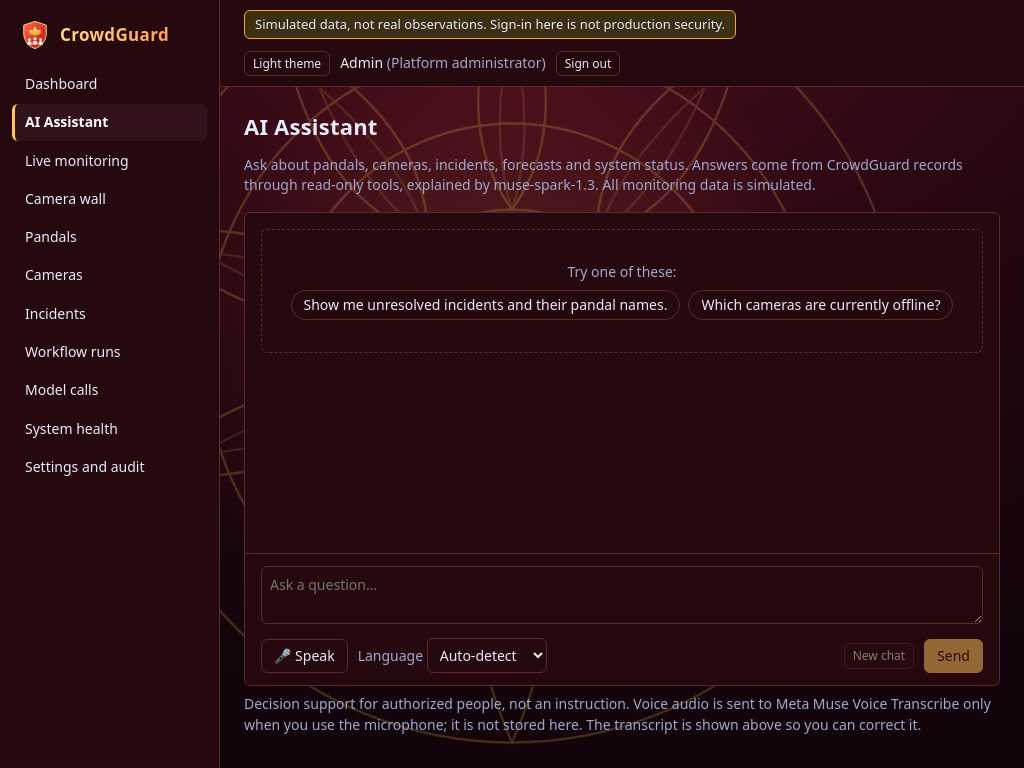
Test: Assistant page › lets the user confirm or cancel a proposed action
Type "acknowledge incident 3" into the text box named "Your question".
click(622, 595); type("acknowledge incident 3")  # box [261,566,983,624]
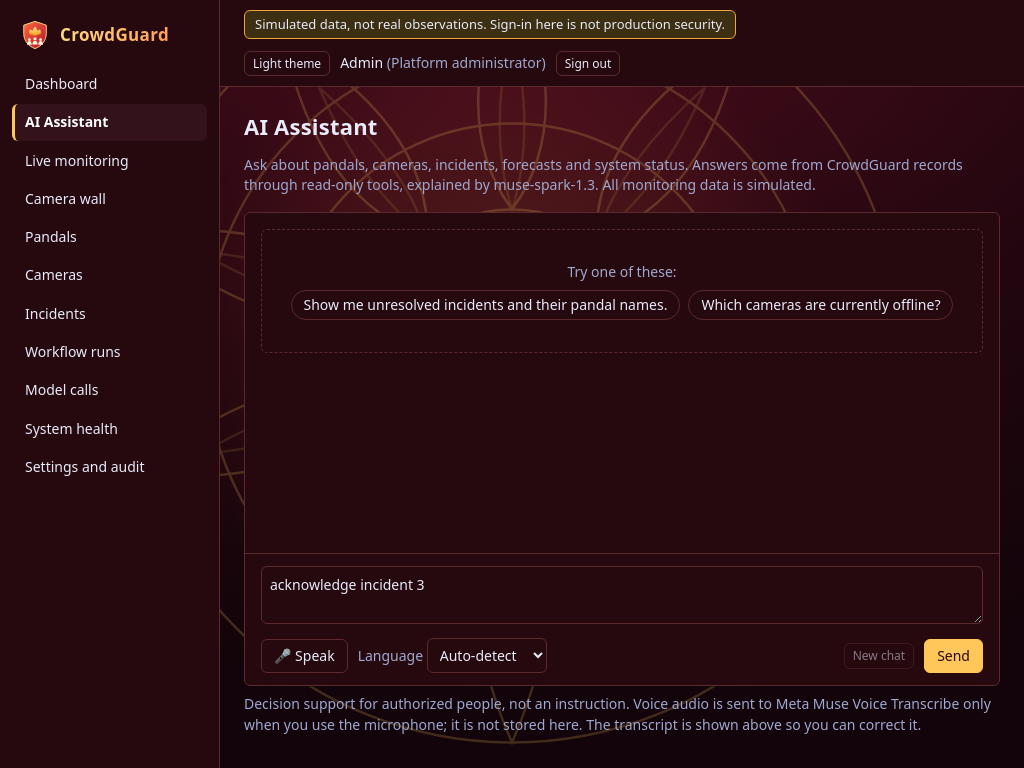
Click the button "Send".
click(954, 656)  # box [924,639,983,673]
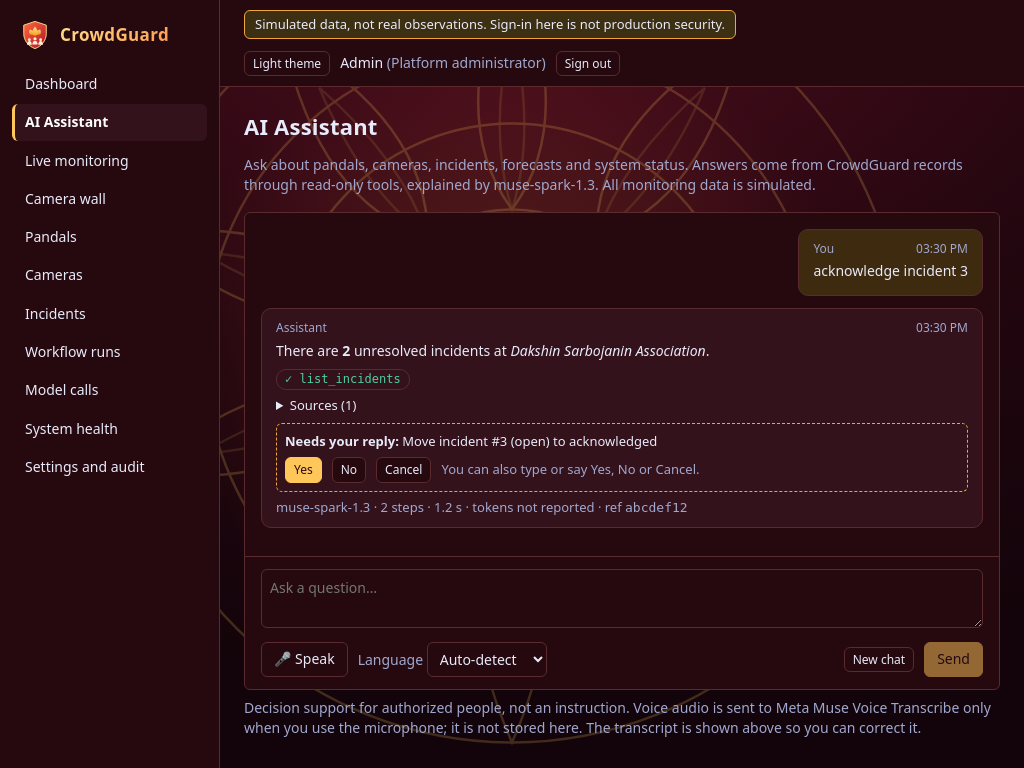
Expected: the text "Needs your reply:" is shown, [285,432,399,450]
Click the button "Yes".
click(303, 470)  # box [285,457,322,483]
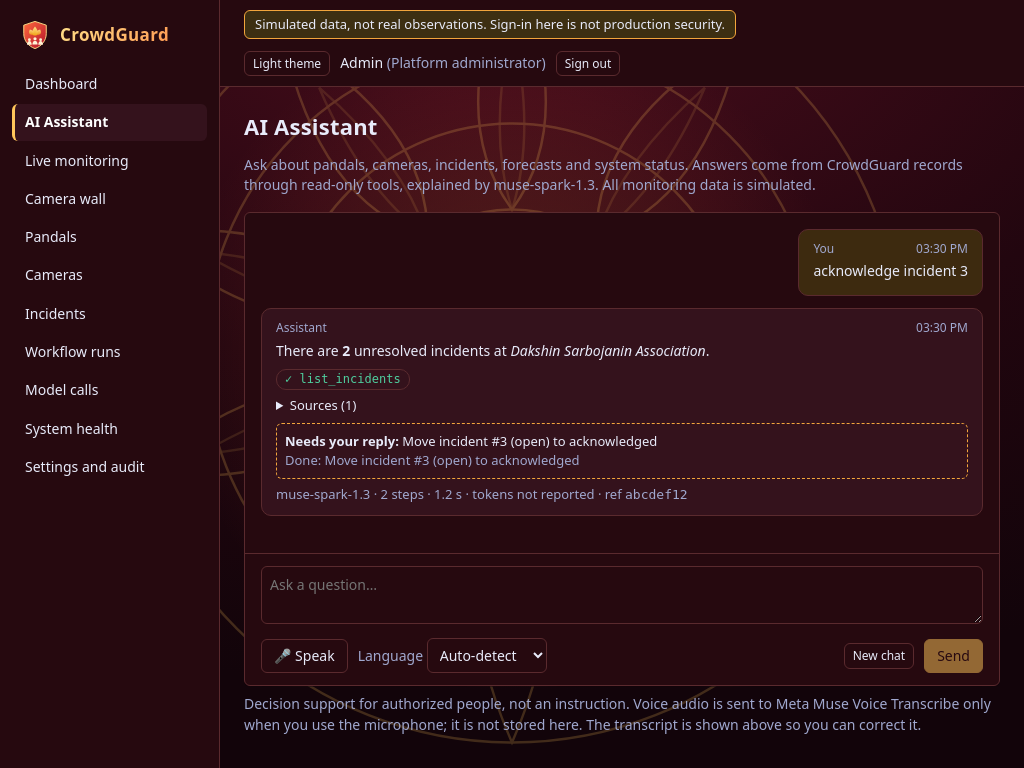
Expected: the text "Done: Move incident #3 (open) to acknowledged" is shown, [285,451,580,469]
